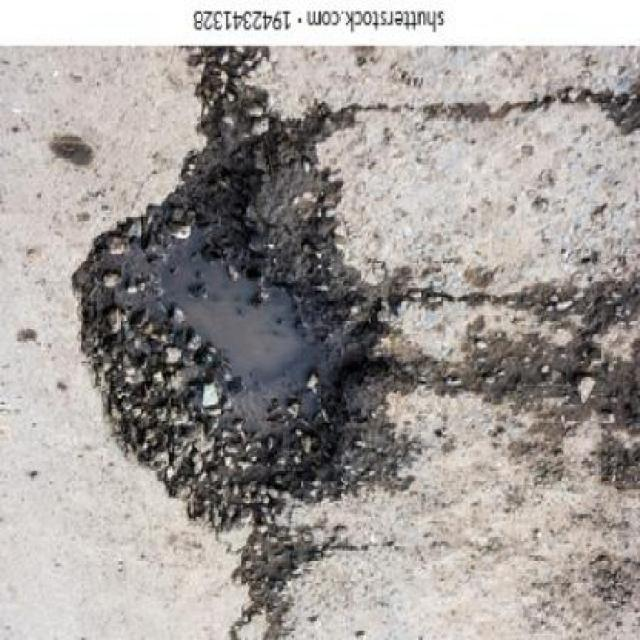Pothole: (68, 54, 405, 530)
